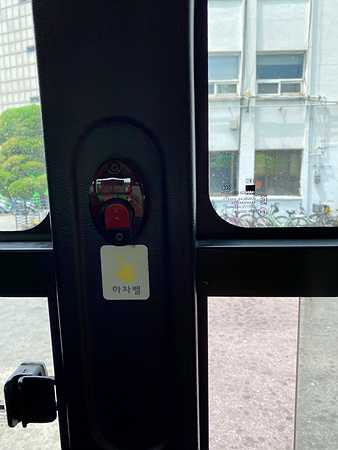bell: (88, 158, 151, 246)
